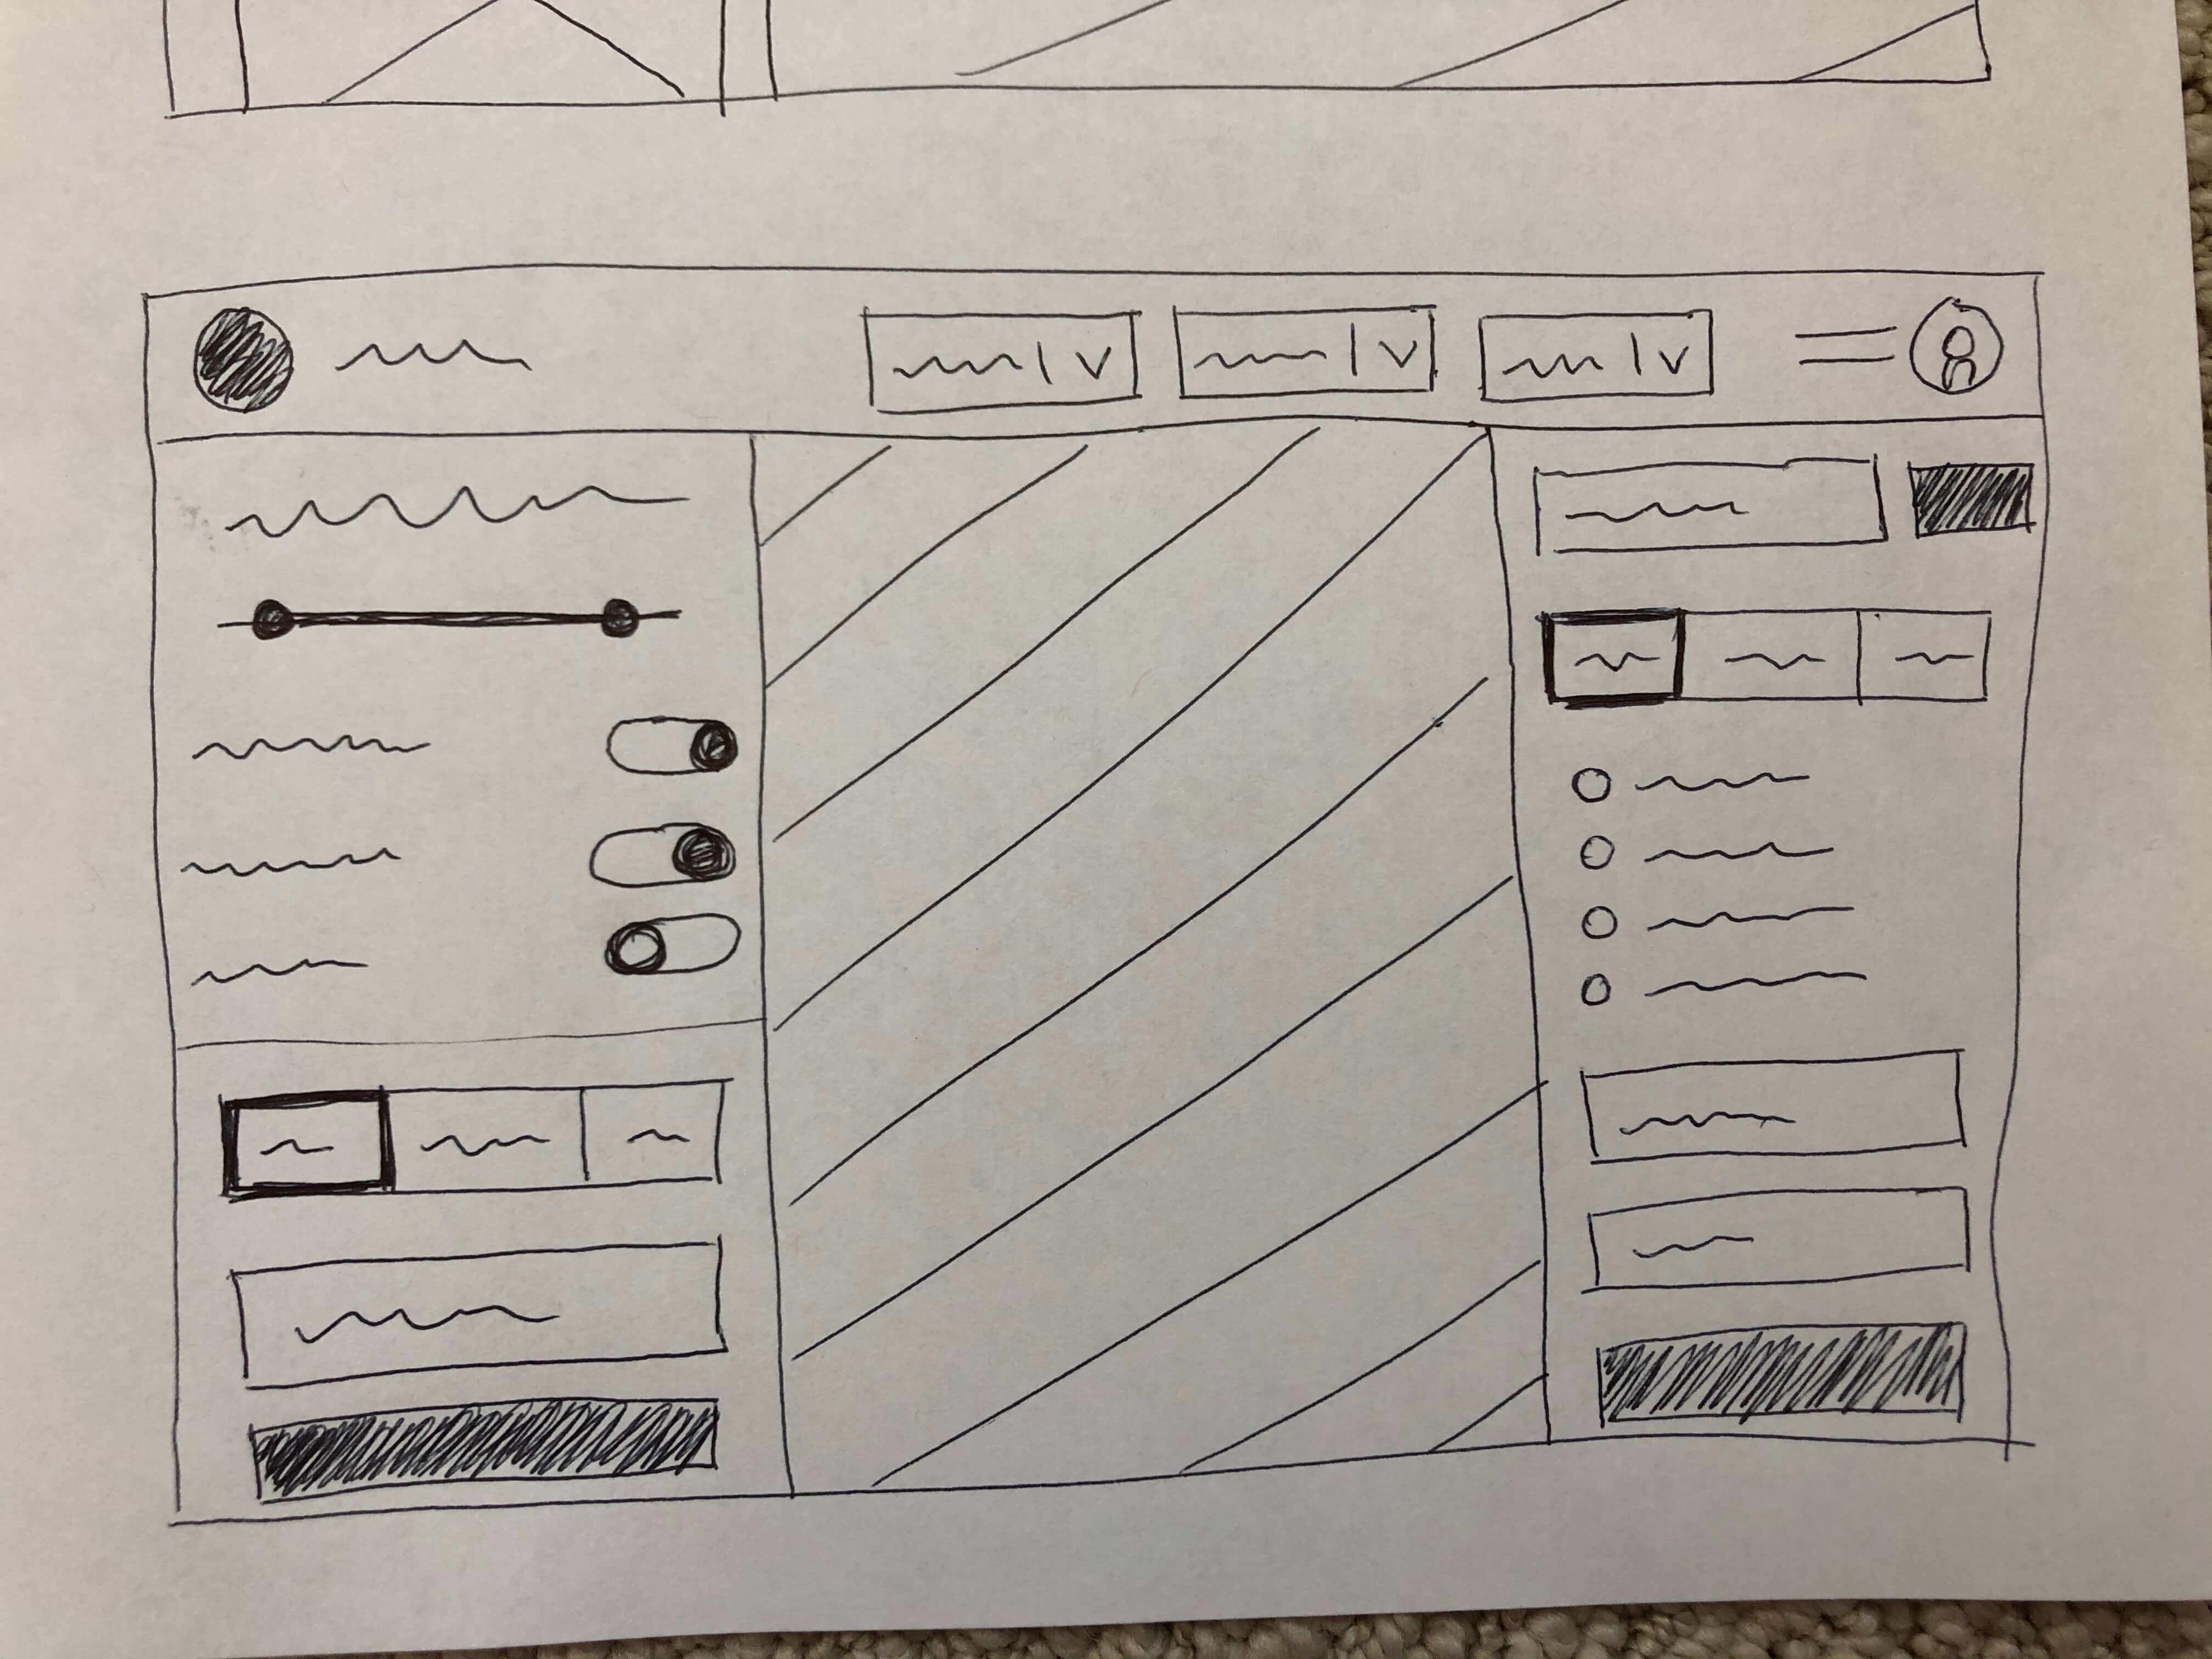avatar: (1789, 295, 2012, 404)
button: (1588, 1314, 1980, 1434), (1902, 451, 2041, 549)
input: (228, 1236, 732, 1382), (1573, 1042, 1968, 1171), (1581, 1175, 1979, 1297), (1526, 450, 1890, 559)
map: (745, 418, 1571, 1520)
radio-button: (1575, 958, 1871, 1019), (1566, 756, 1818, 817), (1573, 897, 1862, 946), (1575, 826, 1844, 877)
radio-group: (211, 1075, 732, 1208), (1531, 592, 2001, 716)
slider: (204, 586, 695, 657)
split-button: (857, 295, 1144, 415), (1165, 295, 1444, 399), (1474, 298, 1721, 404)
switch: (585, 817, 738, 896), (597, 702, 740, 786)
